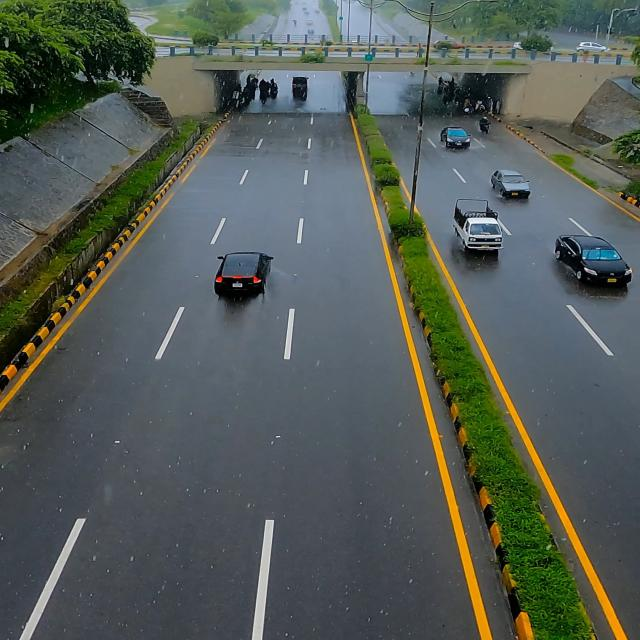Car: (551, 230, 637, 296), (446, 199, 511, 262), (215, 248, 280, 304), (483, 165, 536, 206), (437, 123, 477, 157)
